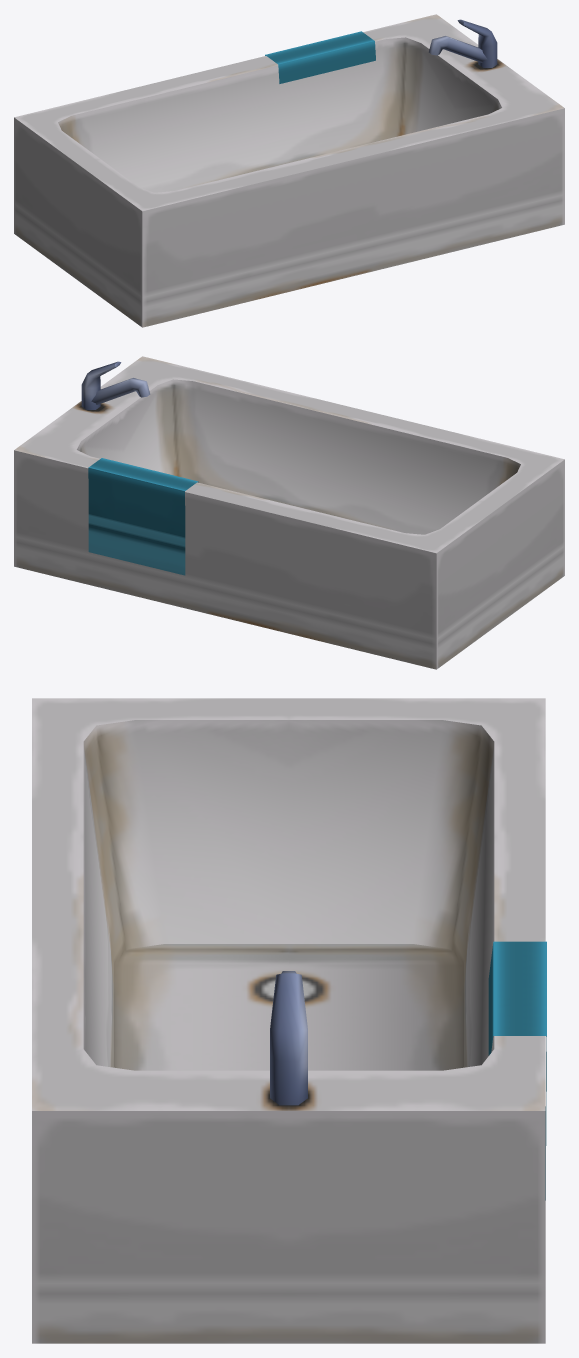
Rendered from KTB0110009.fbx.
3 renders of one model, top to bottom at view 1: azimuth 30°, elevation 25°; view 2: azimuth 150°, elevation 25°; view 3: azimuth 270°, elevation 25°, orthographic. The views are drawn at different scales.
Parts seen in each view (by area): view 1: smKTB0110009; view 2: smKTB0110009; view 3: smKTB0110009.
Boxes of the visible parts, left/top/right/bottom form: smKTB0110009: left=14, top=14, right=564, bottom=327; smKTB0110009: left=14, top=356, right=564, bottom=669; smKTB0110009: left=32, top=698, right=546, bottom=1343.
Bounding box in the file's own units: 190 × 71.45 × 100.
1 material, 1 textured.
